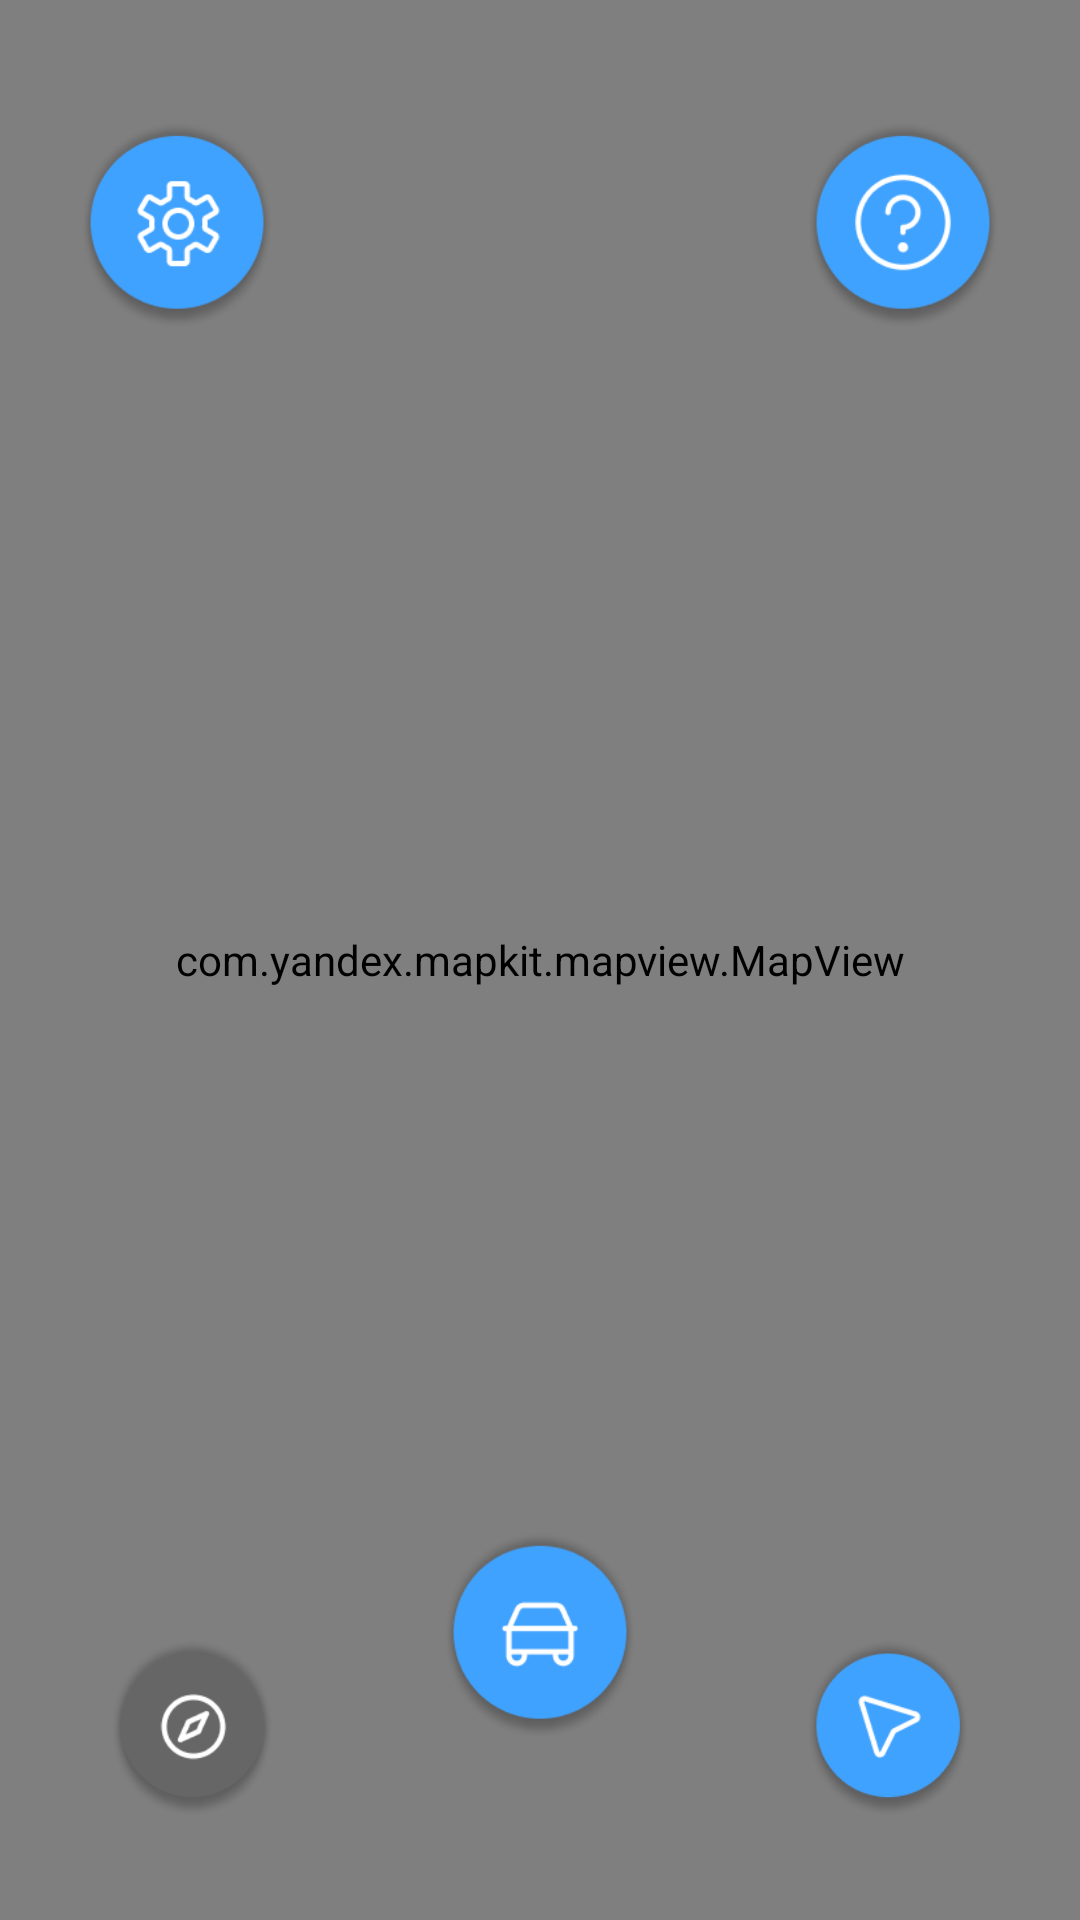

Named icons in this screenshot (1080 × 1920) and their bounding boxes, bbox=[x1, y1, x2, y2]:
compass: bbox=[120, 1652, 264, 1804]
gps: bbox=[816, 1652, 961, 1804]
help: bbox=[816, 134, 990, 316]
